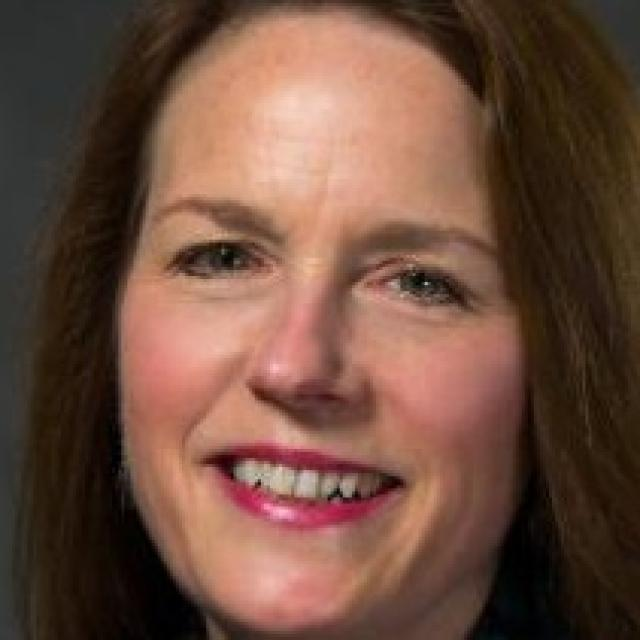Normal: (114, 8, 529, 637)
